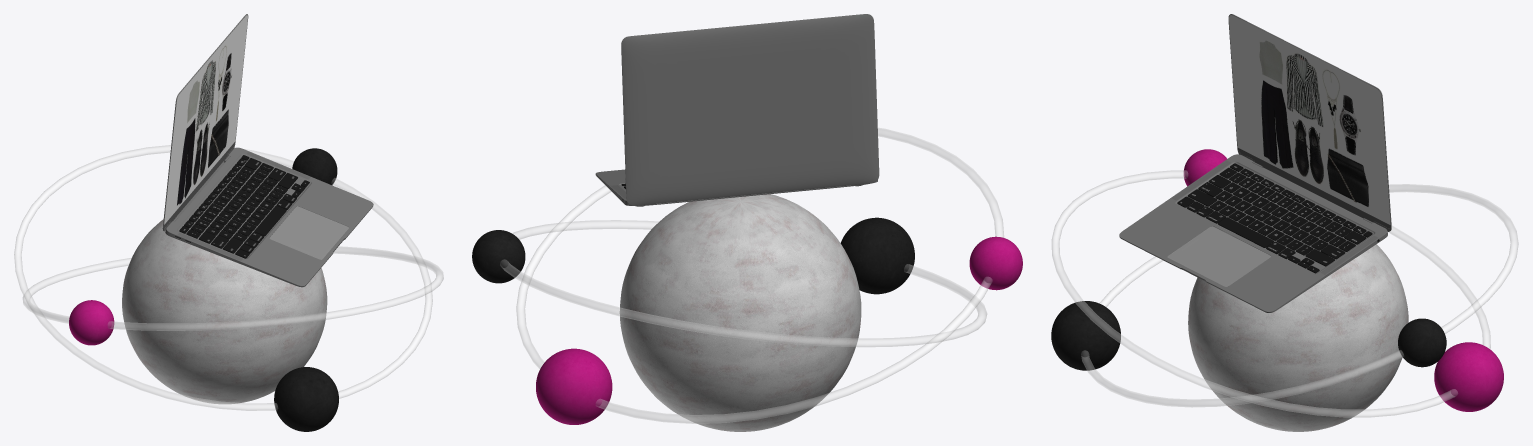
Rendered from GD_Comp1.glb.
3 views of the same model, side by side, from view 1: azimuth 30°, elevation 25°; view 2: azimuth 150°, elevation 25°; view 3: azimuth 270°, elevation 25° (orthographic). The views are drawn at different scales.
Parts seen in each view (by area): view 1: Sphere_n3d, port_frames_n3d, display_n3d, keyboard_n3d, Torus_n3d, Torus_n3d2, Sphere_n3d2, Sphere_n3d3; view 2: Sphere_n3d, port_frames_n3d, Torus_n3d2, Sphere_n3d3, Torus_n3d, Sphere_n3d2; view 3: Sphere_n3d, display_n3d, port_frames_n3d, keyboard_n3d, Torus_n3d2, Sphere_n3d2, Torus_n3d, Sphere_n3d3.
Part boxes in pixels (left/top/right/bottom): Sphere_n3d: left=122, top=219, right=327, bottom=404; port_frames_n3d: left=162, top=14, right=373, bottom=287; display_n3d: left=164, top=15, right=247, bottom=224; keyboard_n3d: left=164, top=142, right=309, bottom=258; Torus_n3d: left=14, top=145, right=432, bottom=410; Torus_n3d2: left=23, top=246, right=443, bottom=330; Sphere_n3d2: left=274, top=148, right=338, bottom=431; Sphere_n3d3: left=69, top=300, right=114, bottom=345; Sphere_n3d: left=619, top=194, right=861, bottom=431; port_frames_n3d: left=595, top=14, right=879, bottom=205; Torus_n3d2: left=516, top=128, right=1003, bottom=423; Sphere_n3d3: left=536, top=236, right=1022, bottom=424; Torus_n3d: left=500, top=220, right=986, bottom=346; Sphere_n3d2: left=472, top=217, right=914, bottom=294; Sphere_n3d: left=1188, top=244, right=1408, bottom=431; display_n3d: left=1229, top=15, right=1390, bottom=224; port_frames_n3d: left=1119, top=14, right=1391, bottom=312; keyboard_n3d: left=1177, top=148, right=1390, bottom=273; Torus_n3d2: left=1052, top=170, right=1490, bottom=417; Sphere_n3d2: left=1051, top=301, right=1446, bottom=370; Torus_n3d: left=1081, top=184, right=1518, bottom=407; Sphere_n3d3: left=1183, top=149, right=1503, bottom=411.
Bounding box in the file's own units: 2.05 × 1.78 × 2.05.
Materials: 8 (6 with a texture image).
